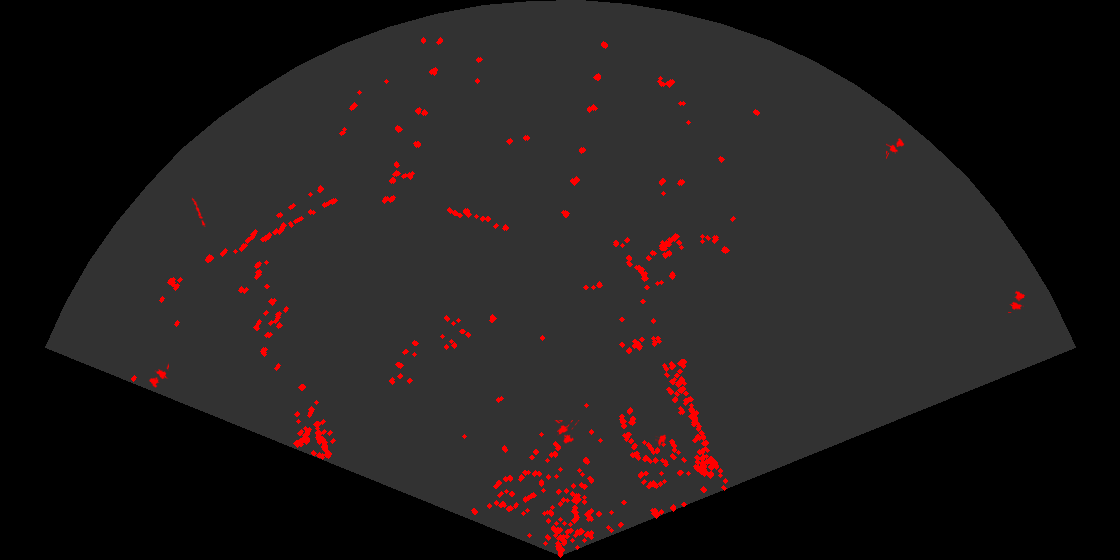AUV: (655, 433, 668, 448)
cage: (553, 420, 580, 445), (147, 362, 169, 389), (1008, 289, 1027, 313), (886, 137, 906, 159)
chain: (190, 196, 207, 227)
